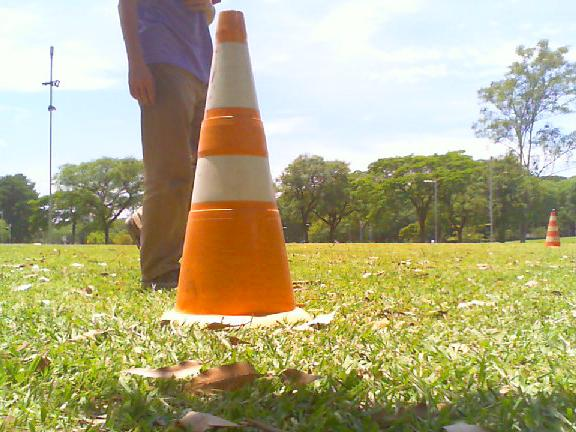0 cone: (161, 10, 310, 327), (546, 210, 561, 247)
